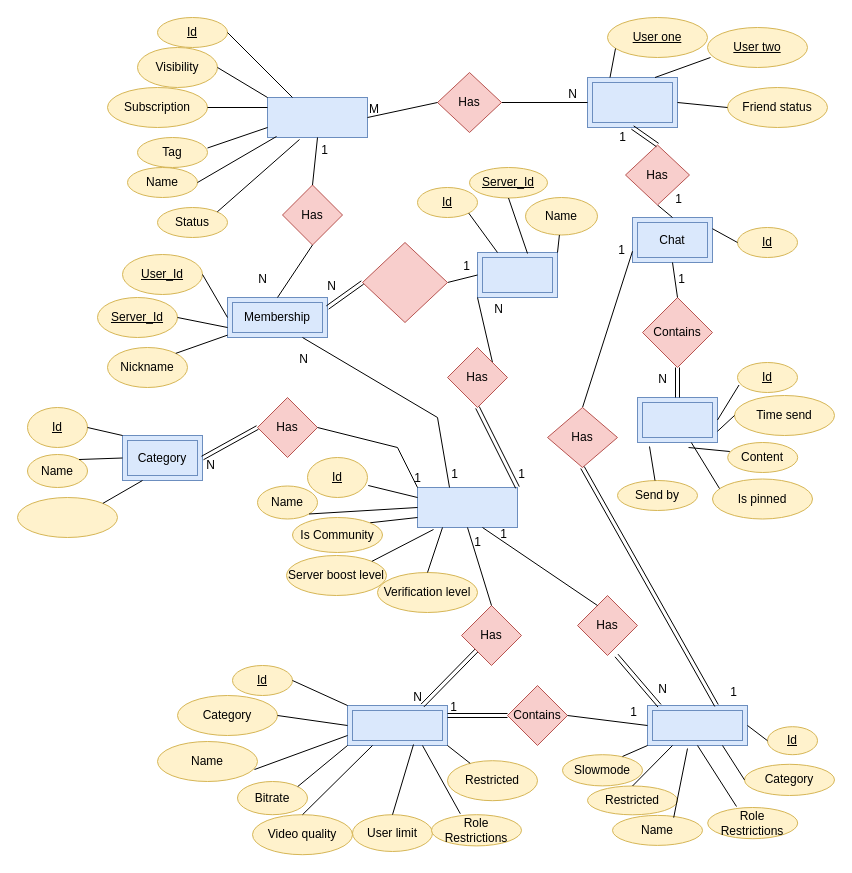
This 852x873 diagram has some shape labels left out. The centre of each missing label's shape, as x and y in pixels:
"Is assigned" belongs at (x=405, y=282).
"Message" belongs at (x=677, y=419).
"Role" belongs at (x=517, y=275).
"Roles allowed" belongs at (x=67, y=517).
"Server" belongs at (x=467, y=507).
"Text Channel" belongs at (x=697, y=725).
"User" belongs at (x=317, y=117).
"Users Interaction" belongs at (x=632, y=102).
"Voice Channel" belongs at (x=397, y=725).
